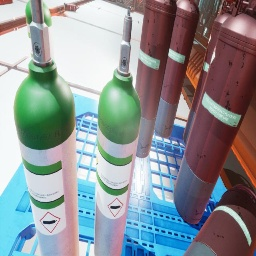0: (13, 0, 79, 256), (94, 6, 142, 256), (25, 0, 55, 62)
FireExtinguisher ]: (64, 3, 80, 12), (130, 8, 134, 12)
FirstAidBox ,: (0, 0, 13, 5)
NitrogenTank ,: (173, 0, 256, 224), (183, 0, 249, 146), (135, 0, 177, 158), (154, 0, 200, 138), (182, 184, 256, 256), (144, 10, 144, 14)
SafetySwitchPanel ,: (218, 0, 231, 16)
